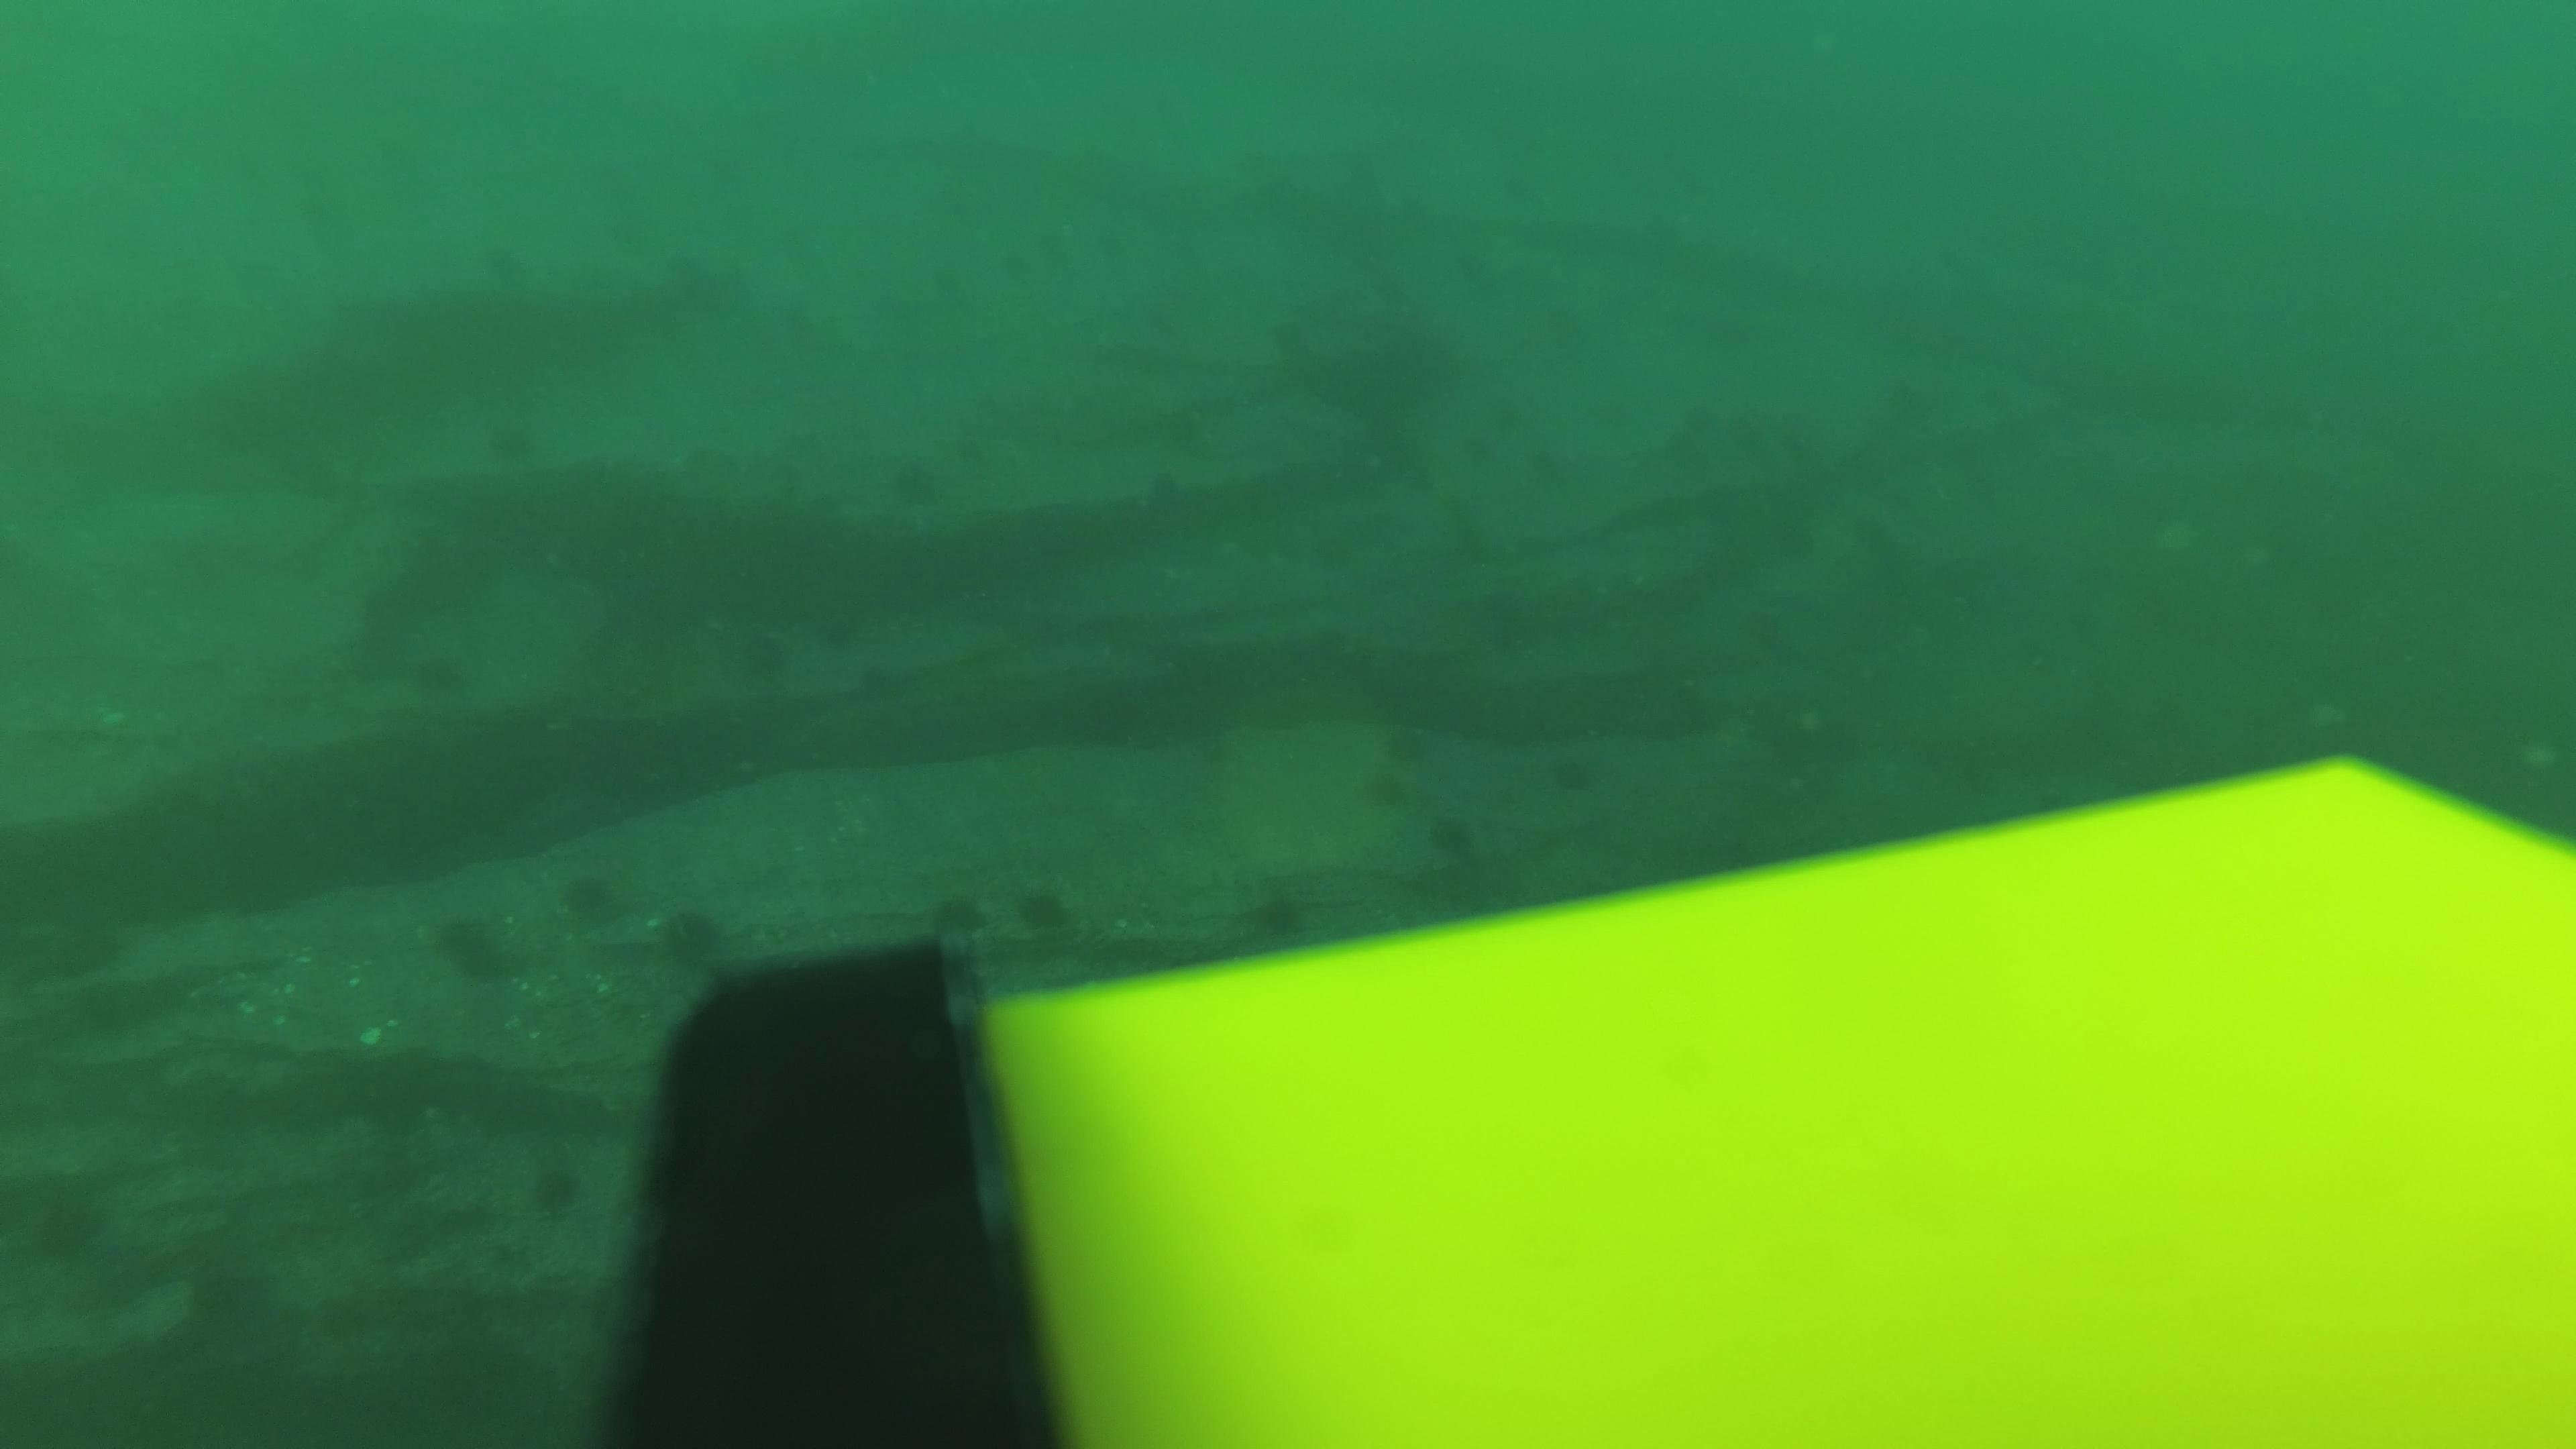echinus: (425, 906, 522, 989), (648, 899, 736, 977), (1238, 878, 1320, 950), (552, 863, 628, 931), (1008, 878, 1083, 943), (522, 1154, 591, 1221), (1357, 763, 1424, 828), (1132, 455, 1200, 518), (1419, 807, 1484, 870), (1368, 717, 1433, 780), (1539, 748, 1605, 812), (1483, 596, 1548, 660), (846, 656, 911, 720), (794, 600, 860, 663), (745, 616, 810, 679), (396, 646, 462, 709), (474, 421, 540, 485), (471, 234, 536, 297), (662, 230, 727, 294), (885, 451, 950, 515), (1313, 520, 1378, 584), (1660, 669, 1725, 732), (1736, 600, 1801, 663), (924, 886, 991, 939), (1767, 414, 1817, 464), (1720, 403, 1769, 453), (1513, 435, 1562, 485), (1484, 391, 1534, 441), (1453, 416, 1502, 465), (1951, 455, 2001, 504), (1872, 377, 1921, 426), (1663, 294, 1713, 343), (1536, 290, 1585, 340), (1493, 163, 1543, 212), (1444, 239, 1493, 288), (1263, 306, 1313, 356), (1760, 511, 1810, 559), (1845, 504, 1895, 552), (1677, 393, 1727, 441), (1720, 308, 1769, 356), (1635, 214, 1684, 262), (1376, 253, 1426, 301), (1026, 219, 1074, 265), (1102, 228, 1150, 274), (586, 147, 633, 193), (777, 292, 823, 338), (920, 260, 966, 306), (991, 246, 1037, 292), (704, 145, 750, 191), (695, 267, 743, 311), (879, 287, 927, 331)
